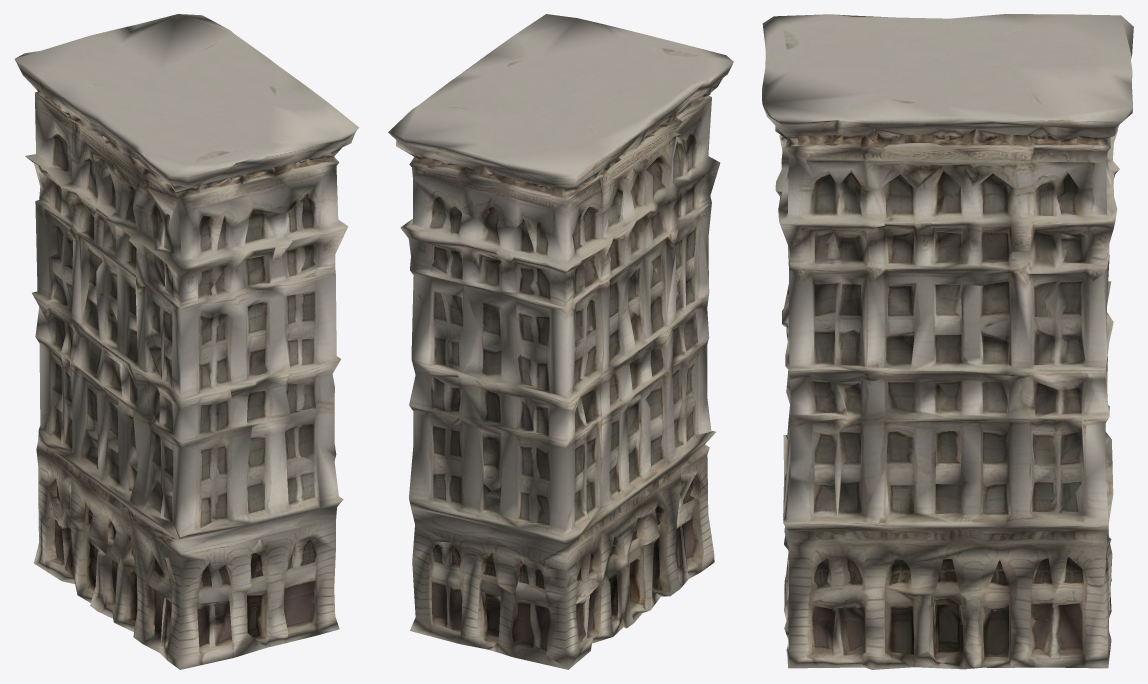
File: bld1_lo.glb
The picture shows the model from 3 angles, left to right: view 1: azimuth 30°, elevation 25°; view 2: azimuth 150°, elevation 25°; view 3: azimuth 270°, elevation 25°; orthographic projection. The views are drawn at different scales.
Visible parts, largest first — view 1: tripo_node_e2f7222b-f030-4798-9ff1-ed135497233a; view 2: tripo_node_e2f7222b-f030-4798-9ff1-ed135497233a; view 3: tripo_node_e2f7222b-f030-4798-9ff1-ed135497233a.
Part boxes in pixels (x1=…): tripo_node_e2f7222b-f030-4798-9ff1-ed135497233a: x1=14, y1=14, x2=359, y2=669; tripo_node_e2f7222b-f030-4798-9ff1-ed135497233a: x1=388, y1=14, x2=733, y2=669; tripo_node_e2f7222b-f030-4798-9ff1-ed135497233a: x1=762, y1=14, x2=1133, y2=669.
Size of the model in its own units: 0.3998 by 0.9982 by 0.5997.
1 material, 1 textured.
